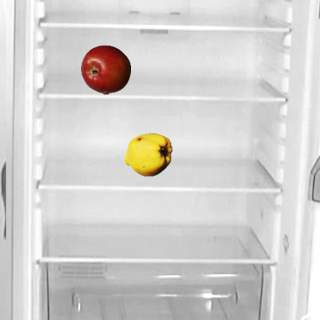Apple Braeburn: (80, 44, 130, 94)
Quince: (122, 129, 172, 179)
